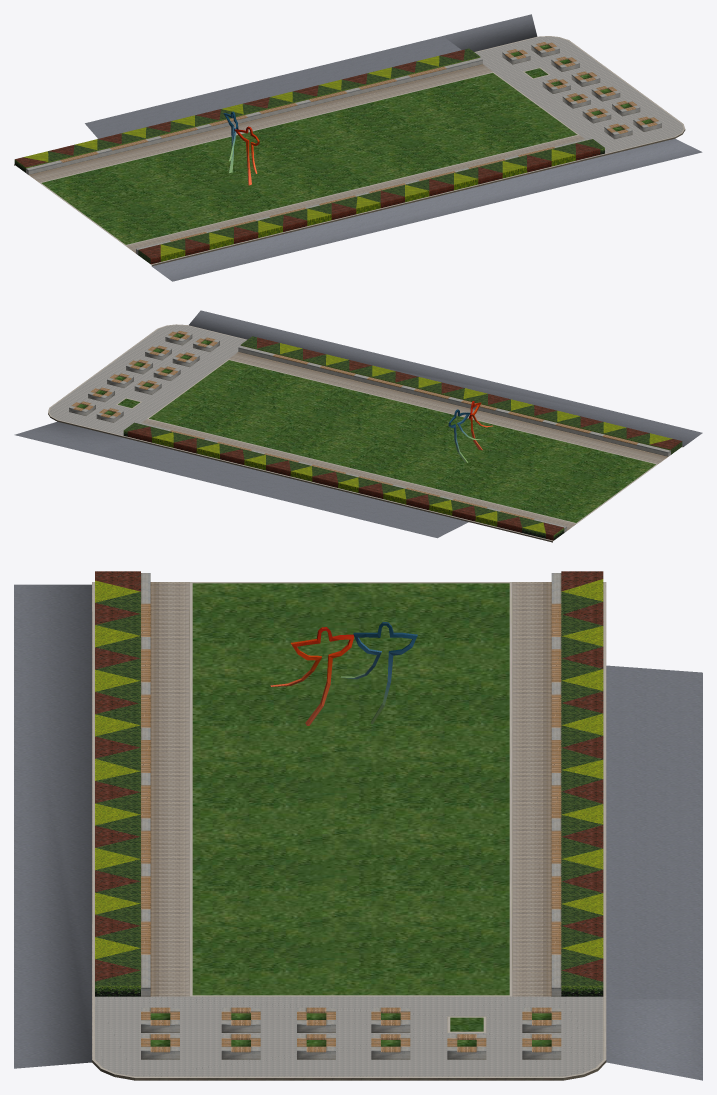
Rendered from shadow.obj.
The picture shows the model from 3 angles, top to bottom: view 1: azimuth 30°, elevation 25°; view 2: azimuth 150°, elevation 25°; view 3: azimuth 270°, elevation 25°; orthographic projection. The views are drawn at different scales.
Visible parts, largest first — view 1: gnd13_1, plant446_1; view 2: gnd13_1, plant446_1; view 3: gnd13_1, plant446_1.
Boxes of the visible parts, left/top/right/bottom form: gnd13_1: left=14, top=14, right=702, bottom=281; plant446_1: left=223, top=111, right=259, bottom=185; gnd13_1: left=14, top=310, right=702, bottom=542; plant446_1: left=448, top=401, right=492, bottom=462; gnd13_1: left=14, top=571, right=702, bottom=1080; plant446_1: left=270, top=622, right=417, bottom=725.
Bounding box in the file's own units: 3005 × 305 × 1764.
